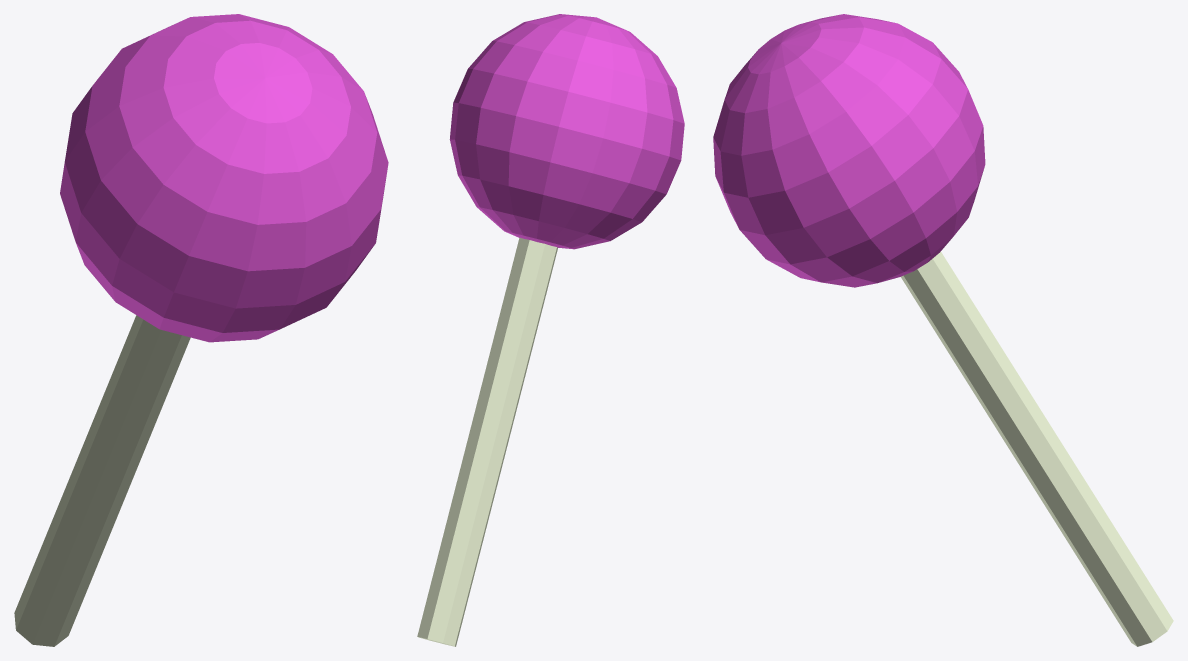
File: chupa.fbx
The picture shows the model from 3 angles, left to right: view 1: azimuth 30°, elevation 25°; view 2: azimuth 150°, elevation 25°; view 3: azimuth 270°, elevation 25°; orthographic projection. The views are drawn at different scales.
Visible parts, largest first — view 1: Sphere, Cylinder; view 2: Sphere, Cylinder; view 3: Sphere, Cylinder.
Boxes of the visible parts, x1,y1,x2,y2 form: Sphere: [60, 14, 388, 342]; Cylinder: [14, 315, 190, 646]; Sphere: [449, 14, 684, 249]; Cylinder: [417, 237, 557, 646]; Sphere: [713, 14, 985, 287]; Cylinder: [901, 251, 1173, 646].
Bounding box in the file's own units: 56 × 139 × 94.17.
